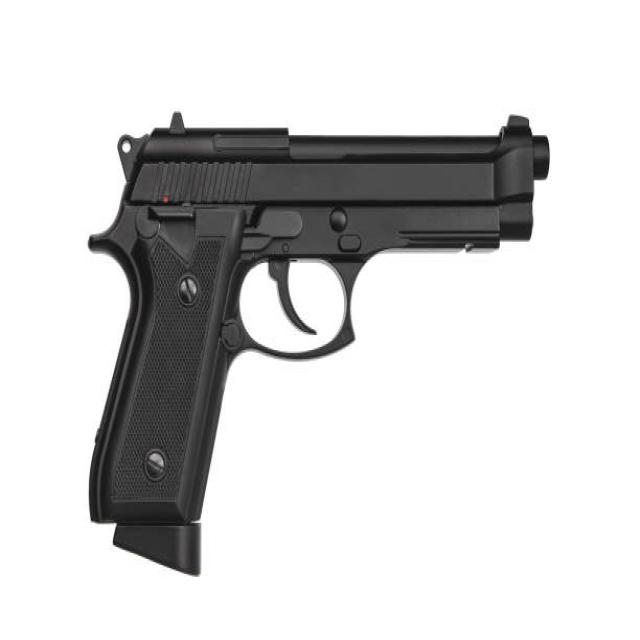pistol: (83, 106, 556, 581)
